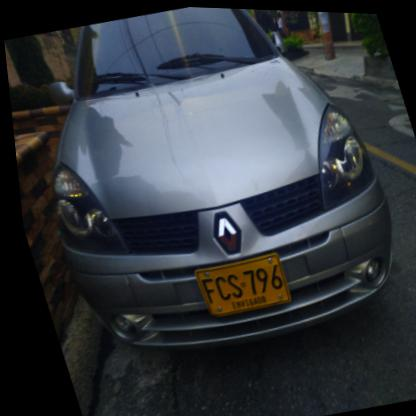placa: (179, 243, 293, 324)
